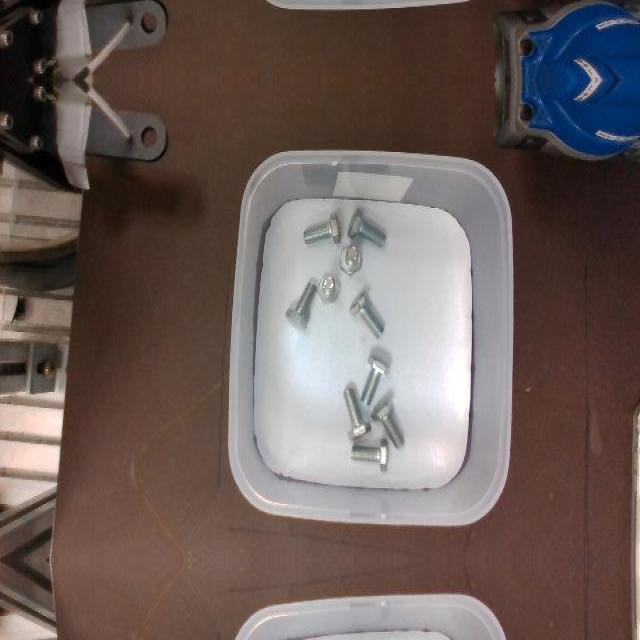screw: (349, 289, 384, 339), (370, 397, 404, 447), (285, 281, 317, 331), (347, 207, 386, 247), (360, 355, 390, 405), (342, 388, 370, 440), (350, 438, 388, 472), (303, 211, 341, 243), (317, 273, 340, 303), (340, 243, 361, 273)
